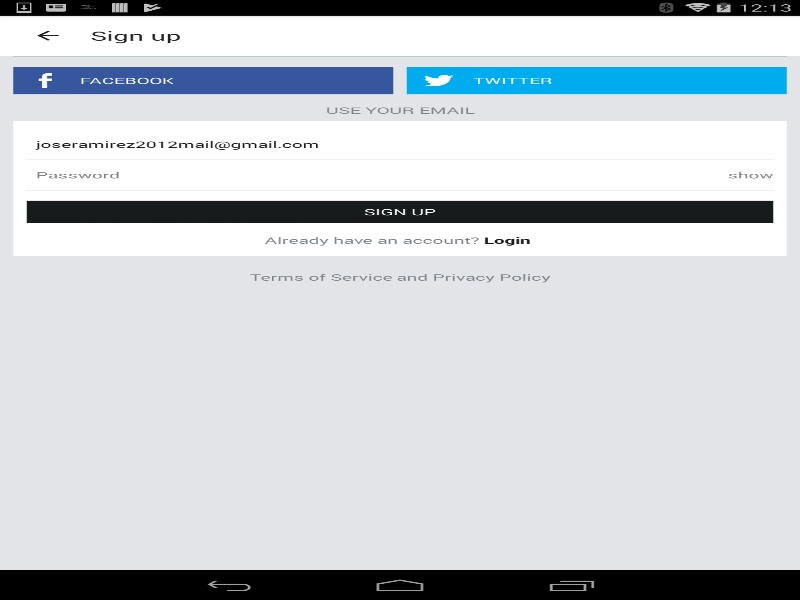Button: (26, 200, 773, 223), (13, 66, 393, 94), (406, 66, 786, 94), (10, 15, 85, 55)
Input: (26, 129, 773, 159), (26, 160, 728, 190)
